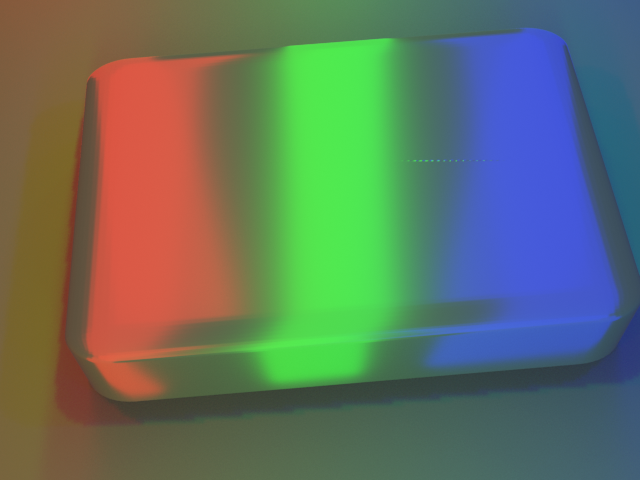scratch: (324, 71, 621, 240)
